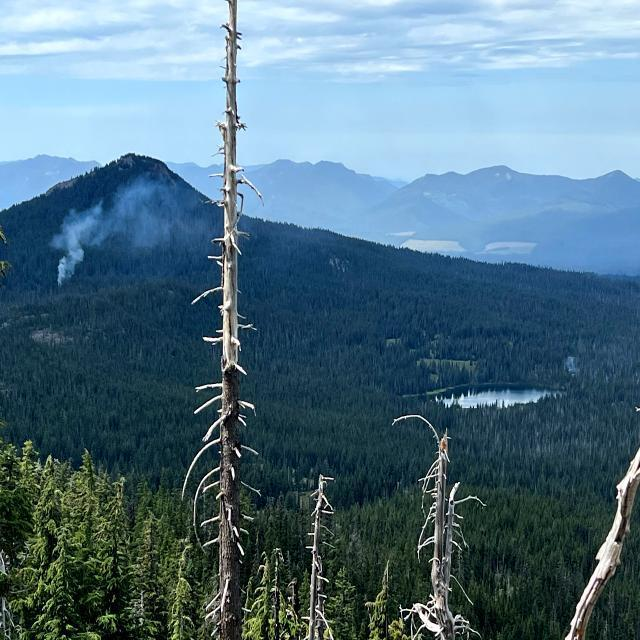Smoke: (44, 165, 190, 288)
